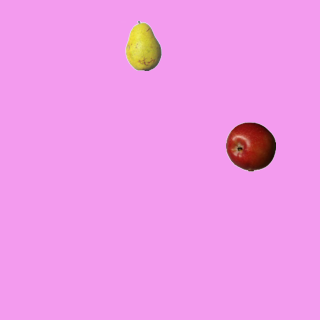Apple Braeburn: (225, 121, 275, 171)
Pear Monster: (118, 20, 168, 70)
